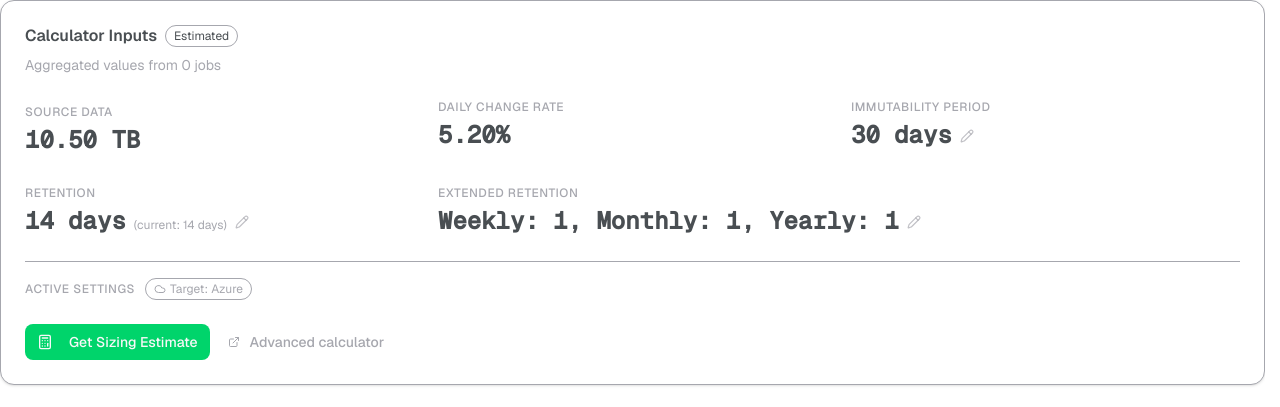
Scenario: CalculatorInputs › retention period inline edit › confirm updates the displayed value and exits edit mode
Click the button named "edit retention": (242, 222) [235,215,249,229]
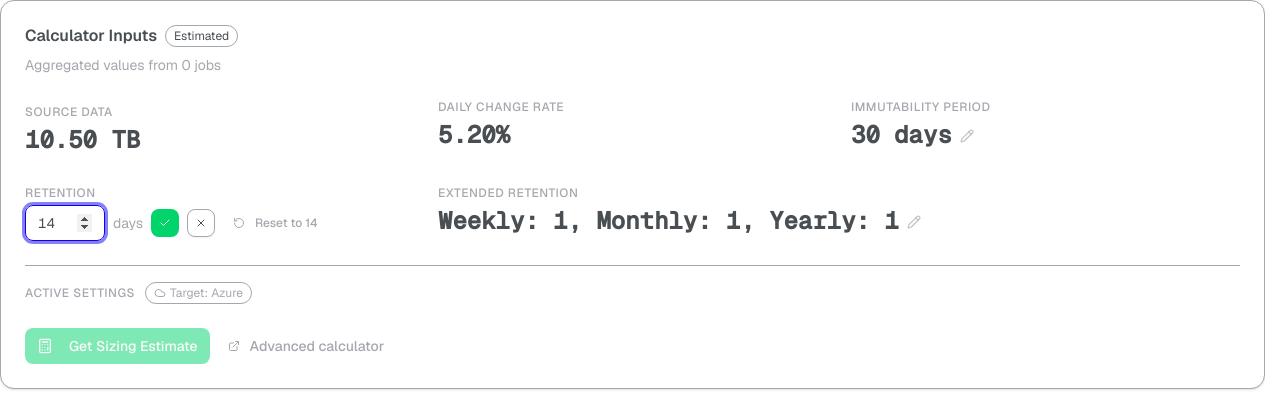
Replace the text in the number field with "45": (65, 223) [25,205,105,241]
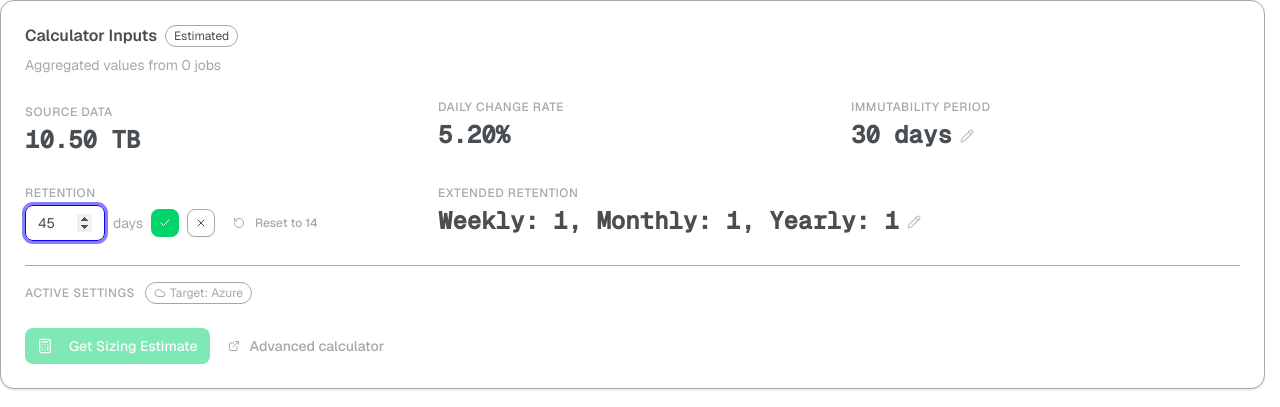
Click the button named "confirm retention": (165, 223) [151,209,179,237]
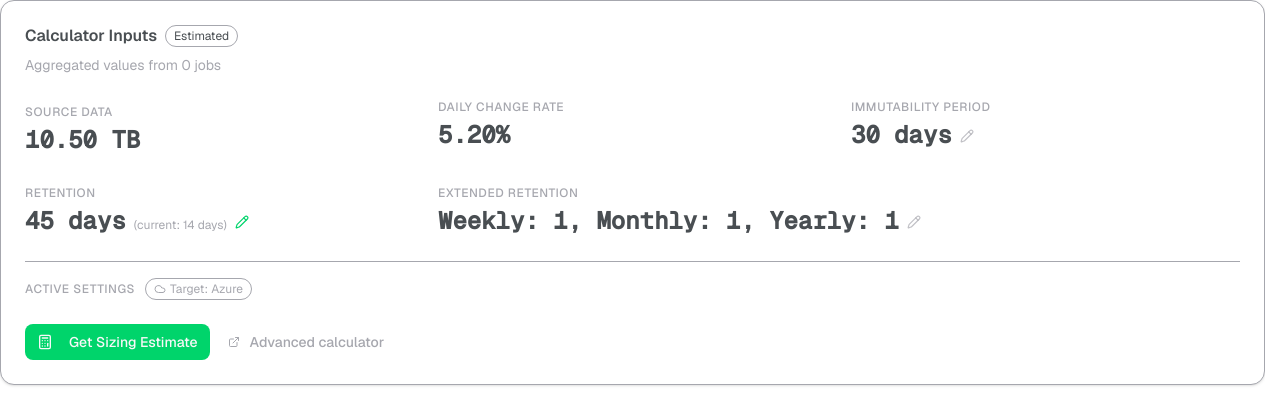
Expected: the text "45 days" is shown, [25,205,126,237]
